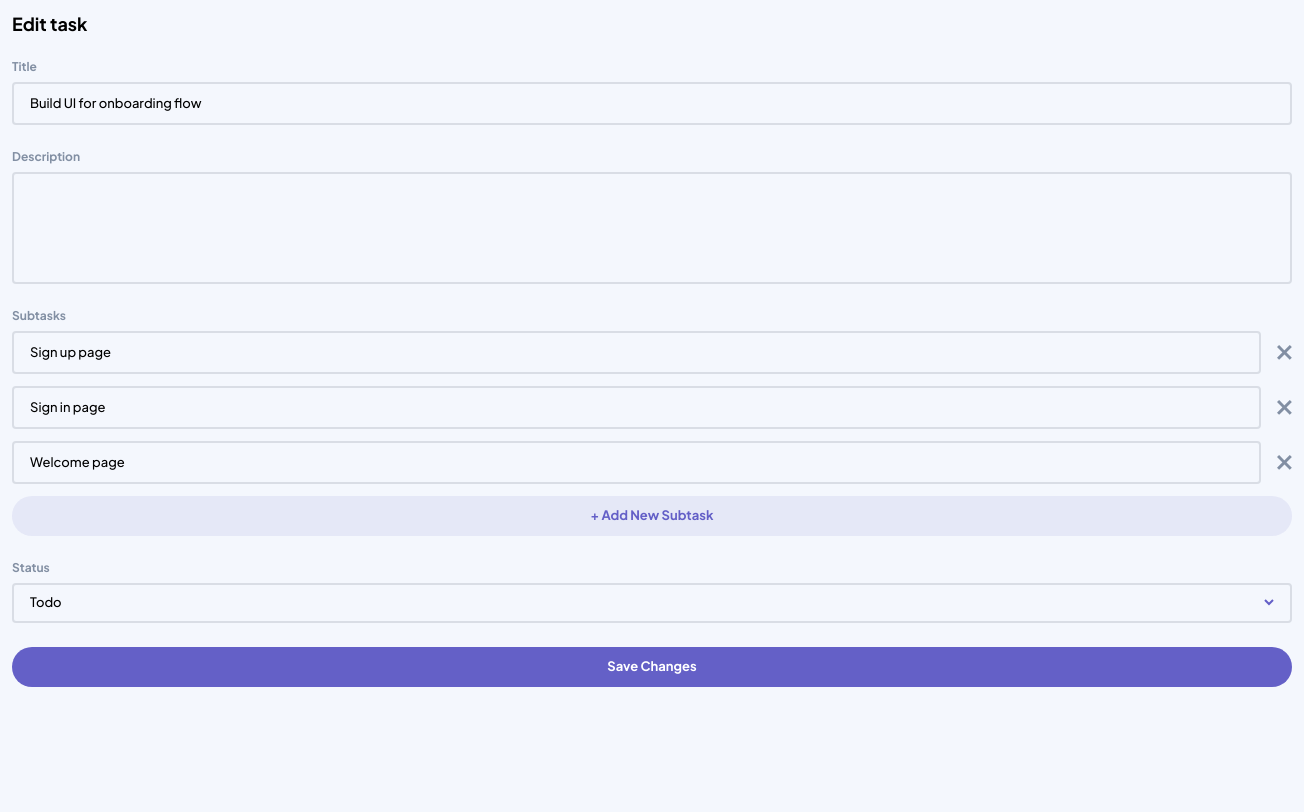
Test: Given an <EditTaskForm /> component › When we click the delete button of 'Sign up page' subtask › It should delete subtask input 'Sign up page'
The image size is (1304, 812).
Expected: the 1st field named "subtask" holds "Sign up page", top-left (12, 331), bottom-right (1261, 374)
Click the button named "Delete item: Sign up page".
click(1284, 352)  # box top-left (1277, 331), bottom-right (1292, 374)
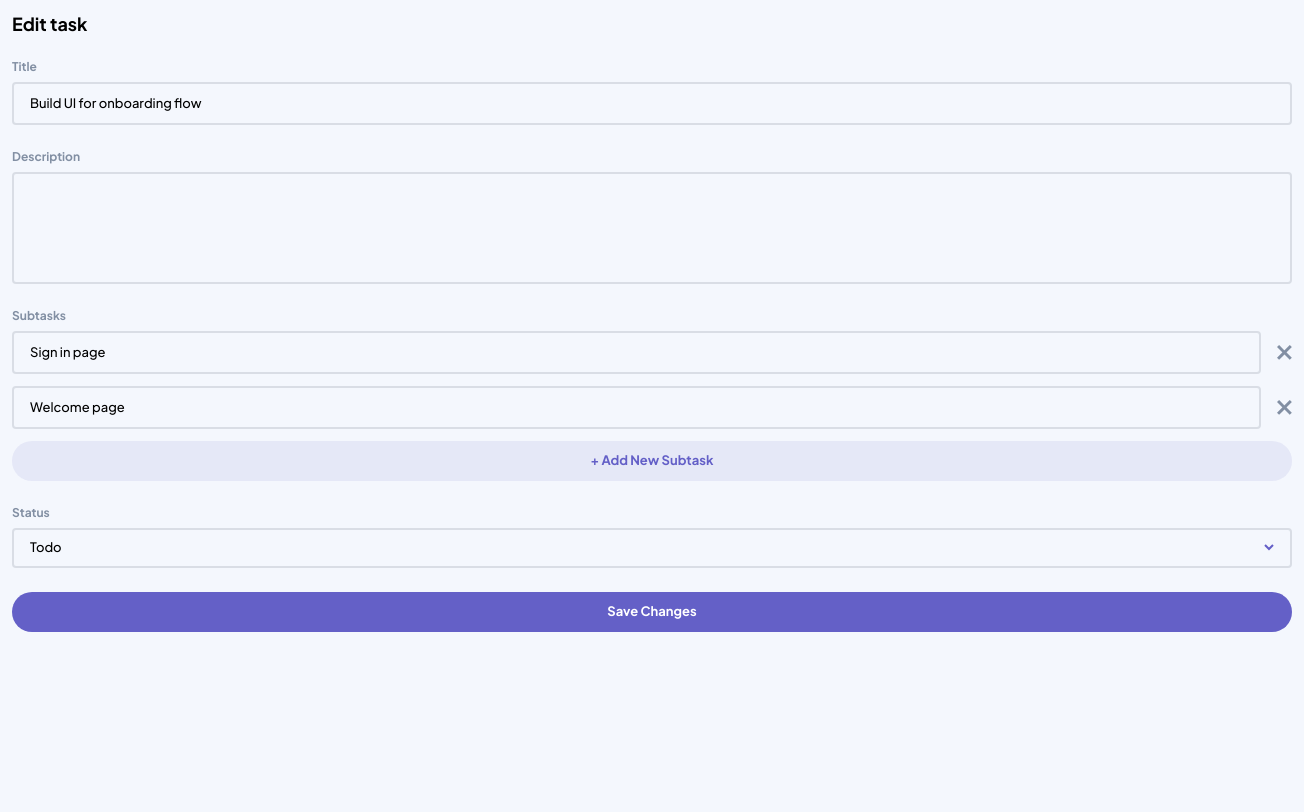
Expected: the 1st field named "subtask" does not hold "Sign up page", top-left (12, 331), bottom-right (1261, 374)
